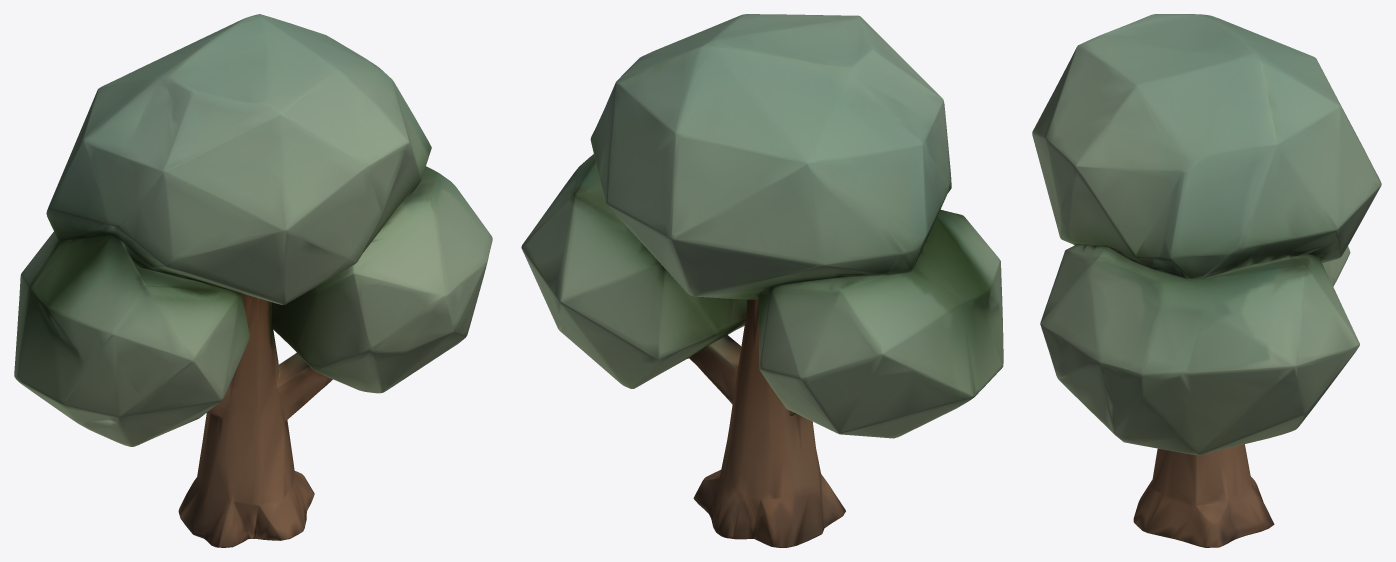
Rendered from tree7.fbx.
3 views of the same model, side by side, from view 1: azimuth 30°, elevation 25°; view 2: azimuth 150°, elevation 25°; view 3: azimuth 270°, elevation 25° (orthographic).
Visible parts, largest first — view 1: tree7; view 2: tree7; view 3: tree7.
Boxes of the visible parts, x1=… form: tree7: x1=14, y1=14, x2=492, y2=547; tree7: x1=521, y1=14, x2=1003, y2=547; tree7: x1=1032, y1=14, x2=1381, y2=547.
Size of the model in its own units: 30.33 by 32.17 by 20.88.
1 material, 1 textured.
